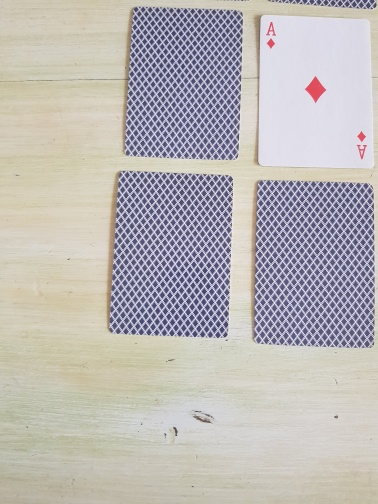ace: (255, 14, 375, 170)
